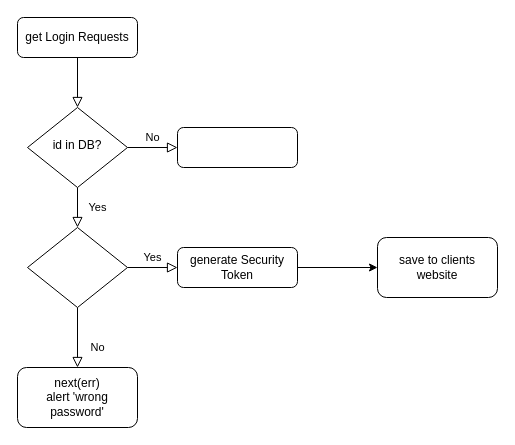
Image size: 515x445. Some labels were removed from this diagram. The centre of each missing label's shape, as x and y in pixels:
next(err) alert 'wrong id': the point at 237,147
password matches with id?: the point at 77,267
